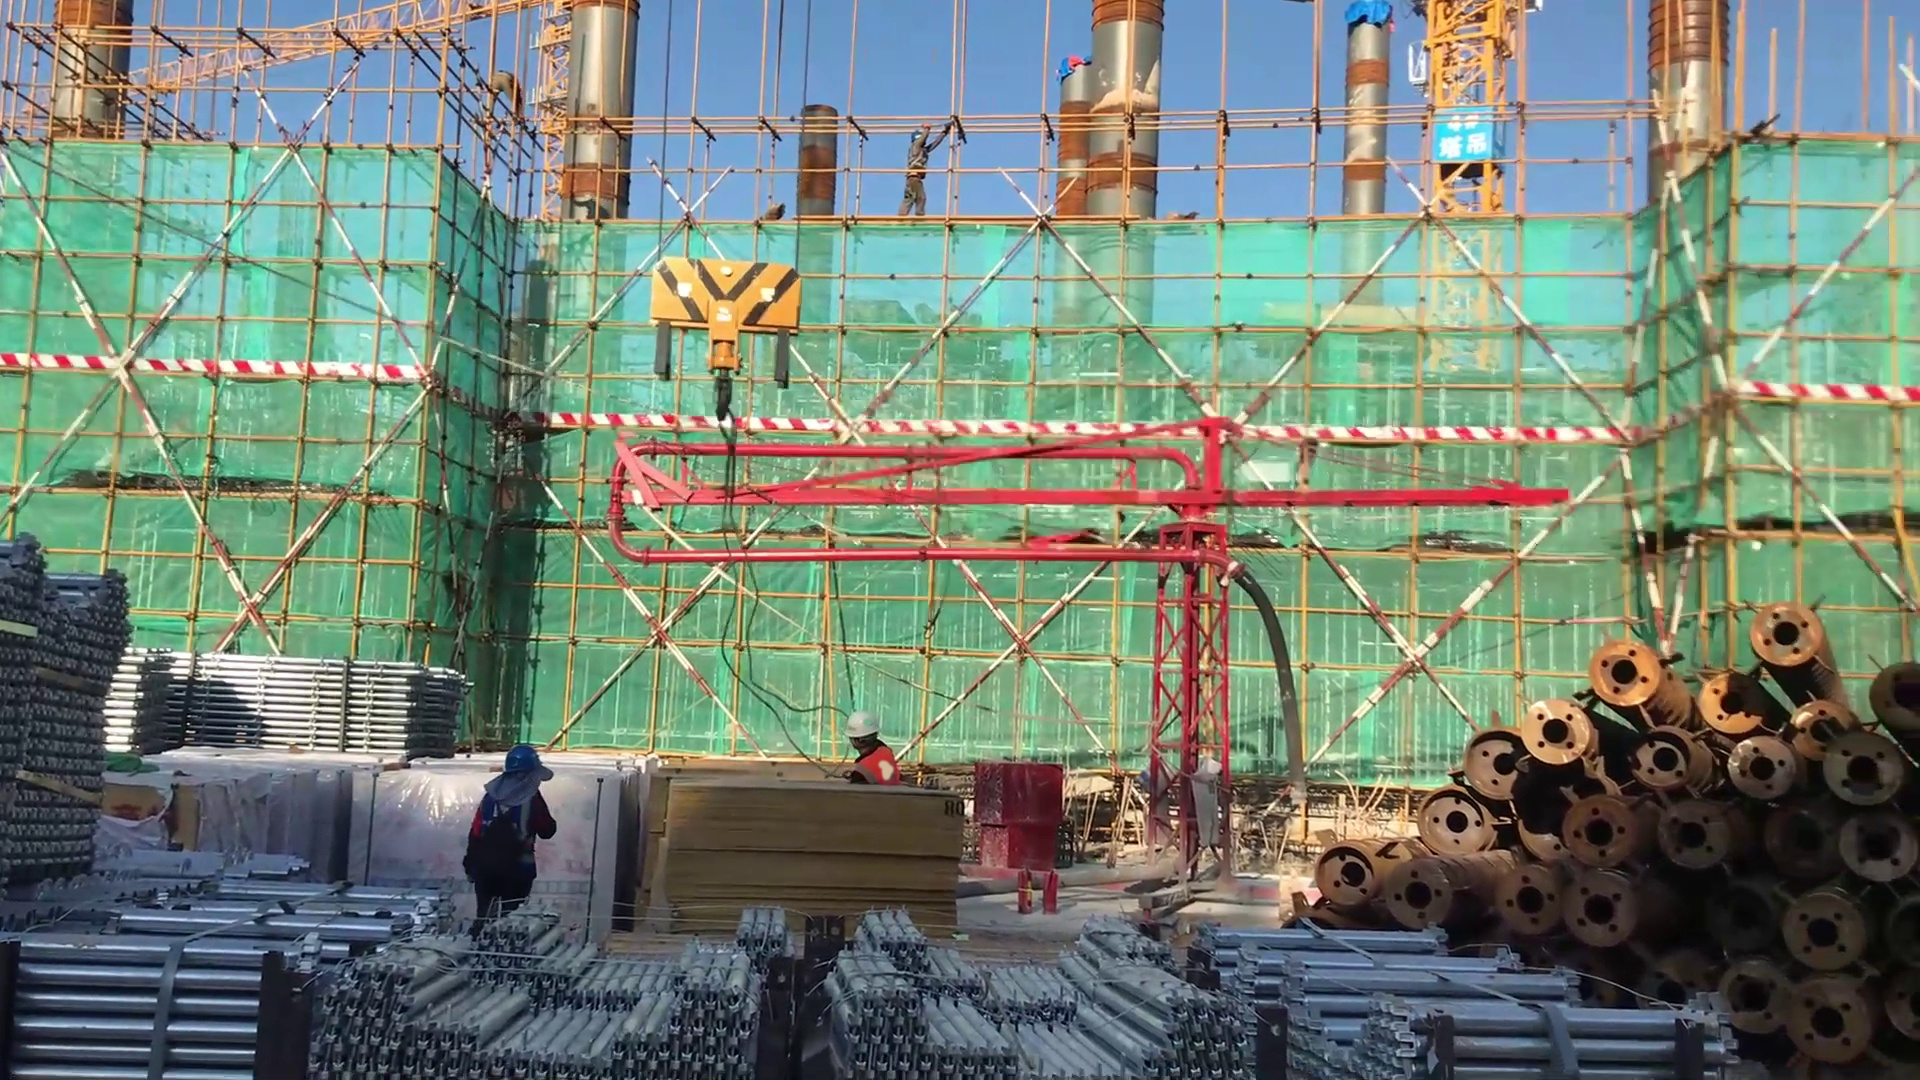board: (641, 752, 971, 940)
helmet: (491, 731, 554, 791), (844, 706, 887, 751), (910, 124, 927, 152)
hook: (629, 230, 823, 462)
person: (462, 730, 564, 943), (818, 706, 915, 798), (892, 112, 959, 228)
scaffold: (3, 835, 426, 1080), (277, 914, 782, 1080), (838, 895, 1261, 1080), (1209, 930, 1727, 1080), (1, 541, 158, 865), (98, 644, 477, 759)
slogan: (1431, 106, 1509, 181)
vest: (474, 782, 539, 900), (847, 746, 905, 790), (906, 147, 932, 178)
